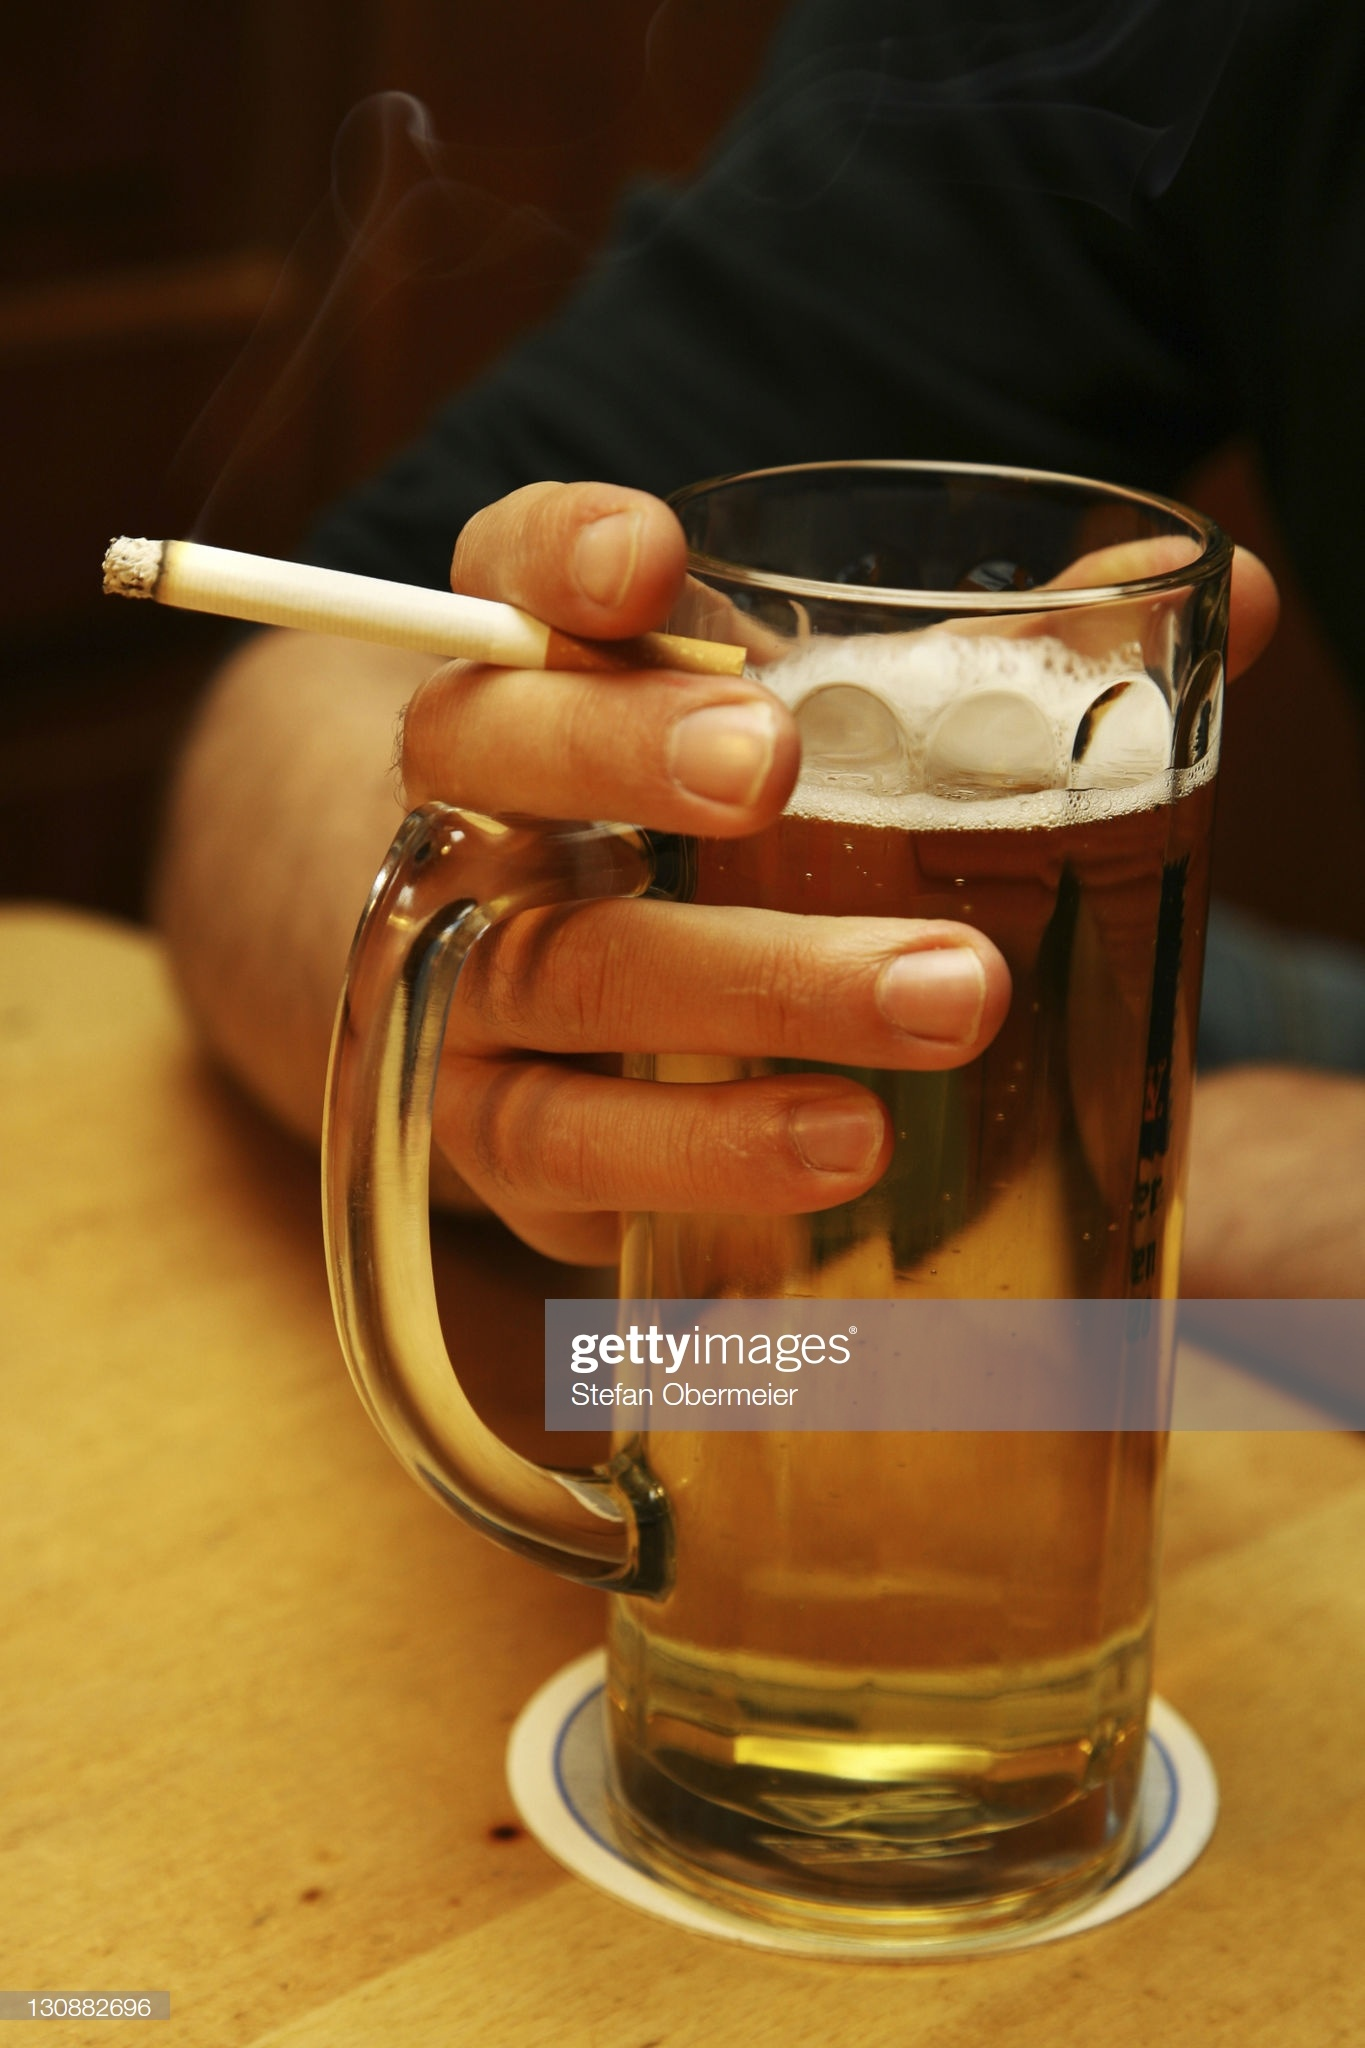sigaretta: (117, 528, 759, 703)
